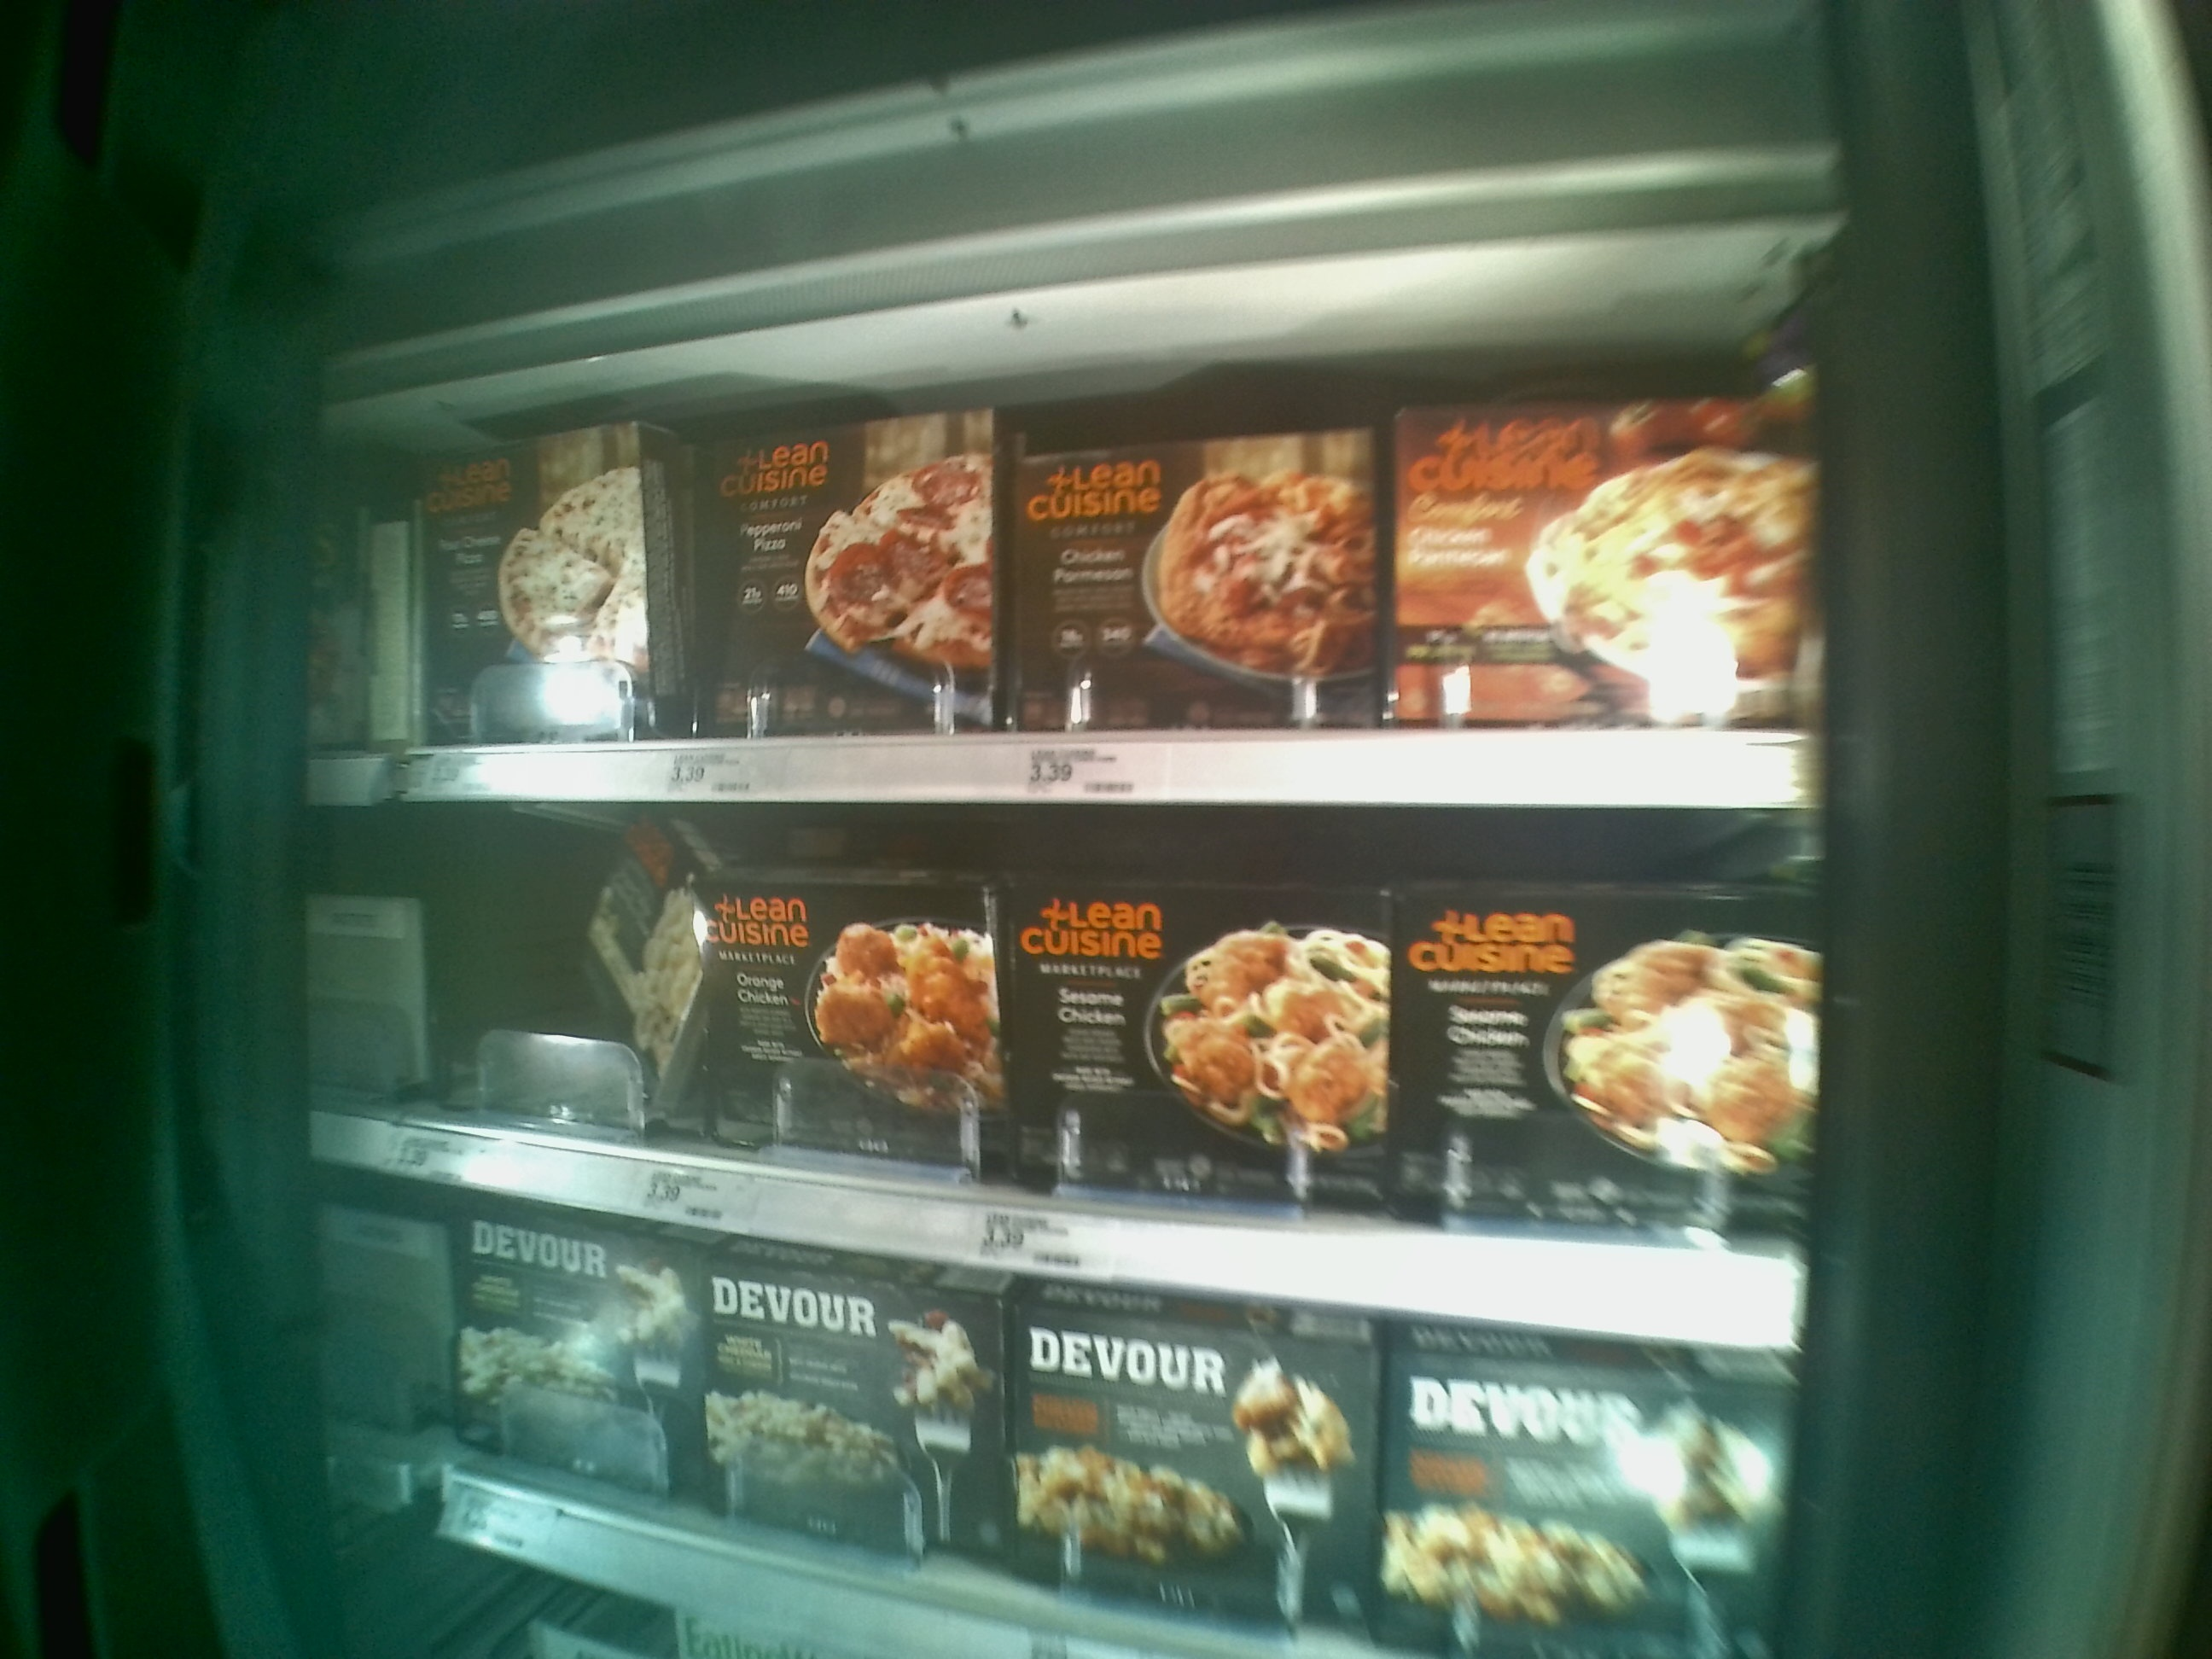shelf: (331, 272, 1825, 809), (301, 812, 1811, 1342)
